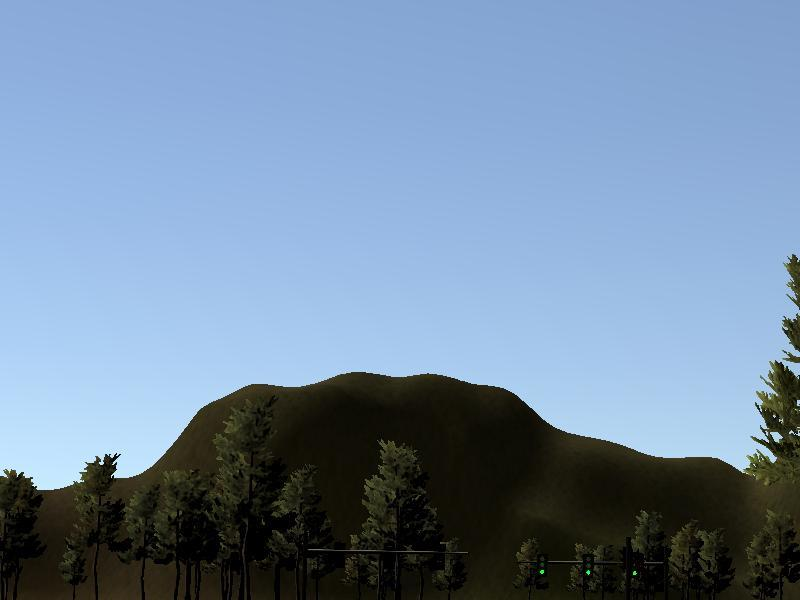Green: (628, 551, 641, 581), (581, 552, 594, 580), (536, 555, 548, 578)
